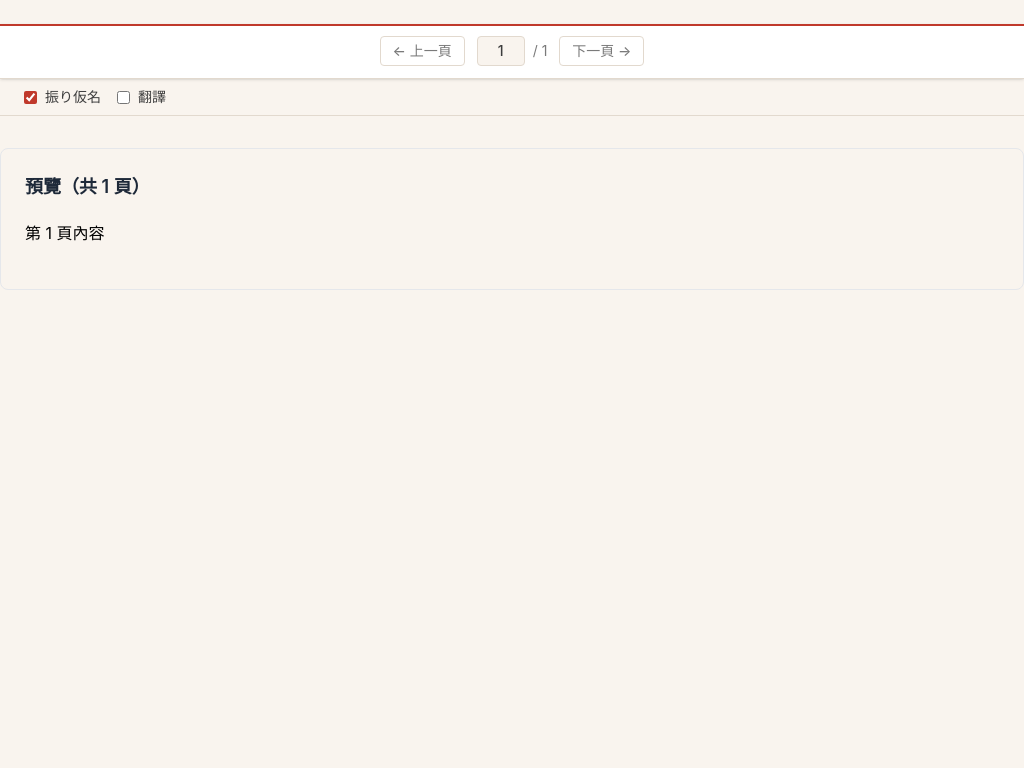
it: PagedPreview › 翻譯失敗時顯示 Toast 錯誤訊息
The image size is (1024, 768).
Click the checkbox labelled "翻譯": point(124, 97) [117,90,130,104]
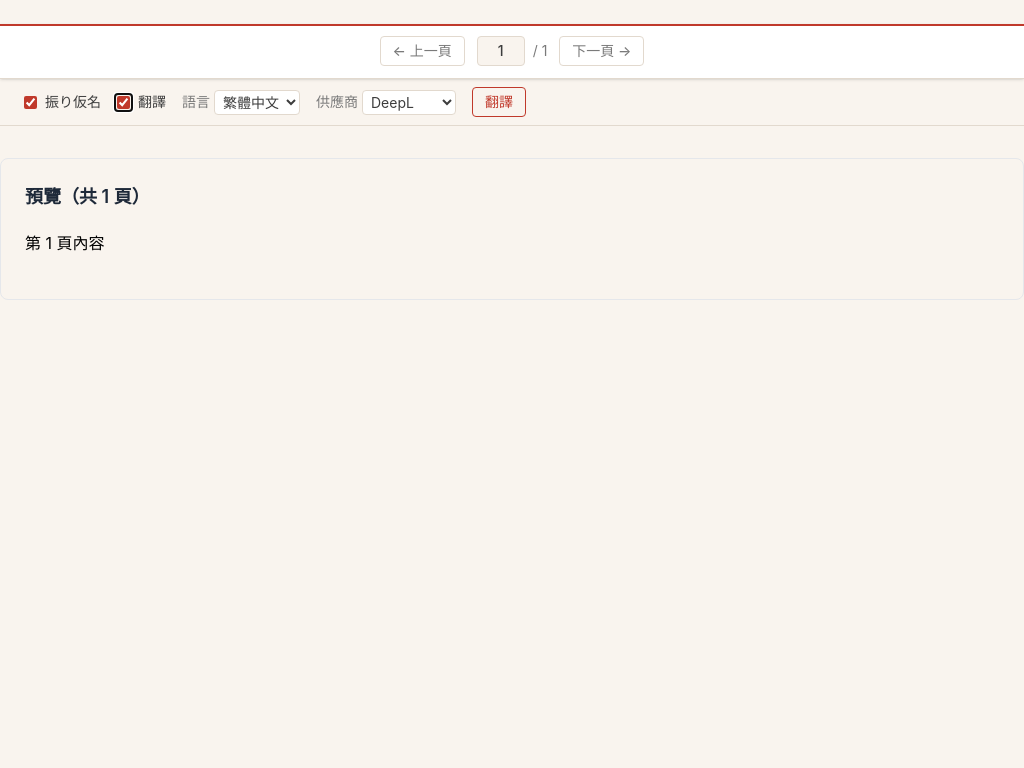
Click the button "翻譯": point(499, 102) [472,87,526,117]
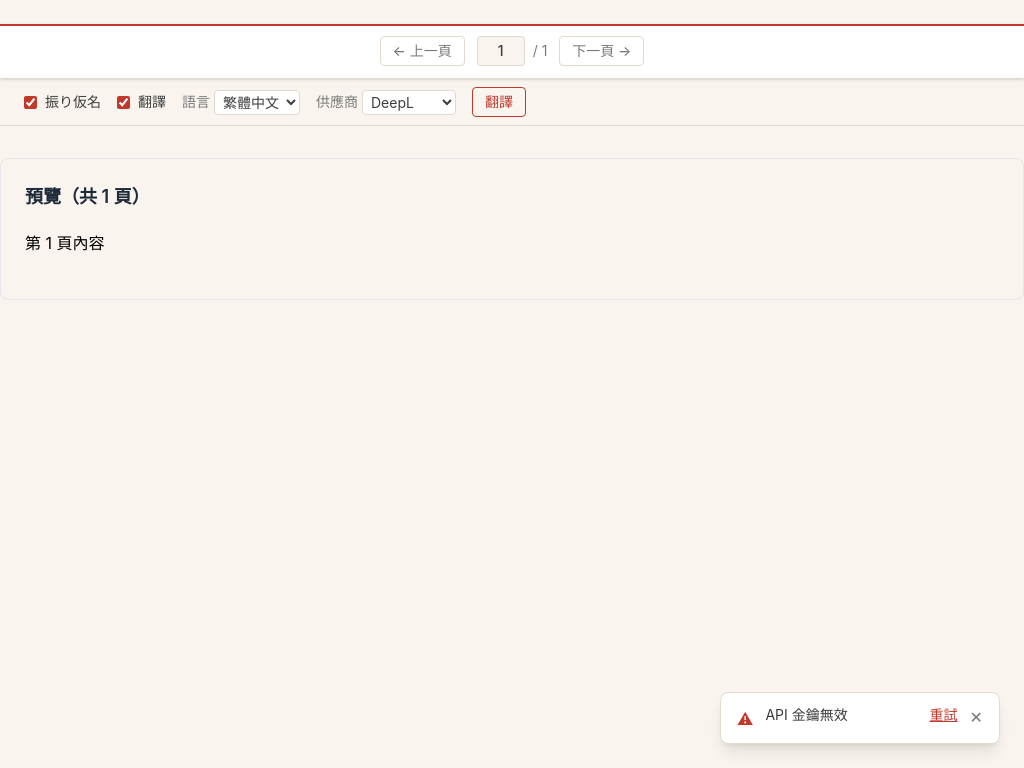
Expected: the text "API 金鑰無效" is shown, [765,706,848,723]
